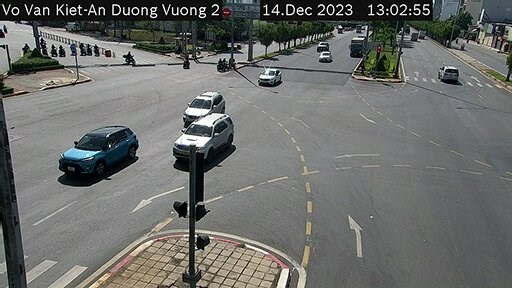car: (58, 118, 138, 188), (171, 114, 239, 161), (178, 86, 235, 124), (256, 65, 282, 88), (439, 65, 464, 85), (318, 38, 332, 54), (316, 51, 334, 62)
truck: (348, 35, 365, 58)
